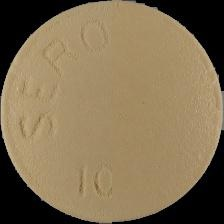55154-6910: (0, 0, 224, 224)
